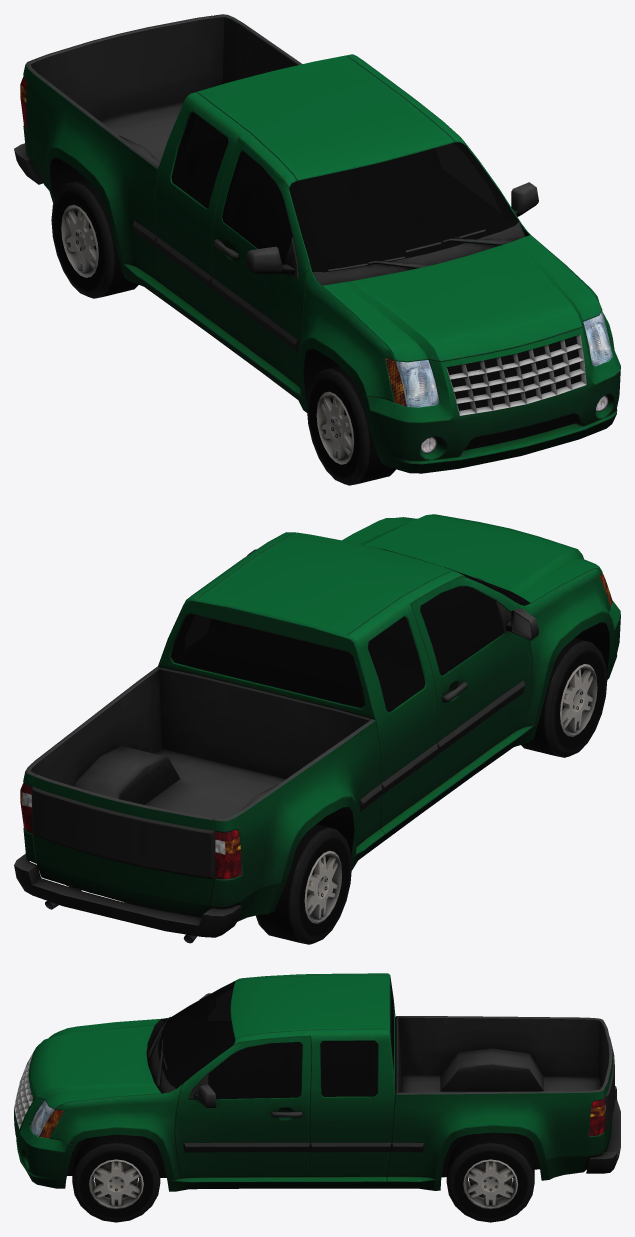
Rendered from pickup.glb.
3 views of the same model, one above another, from view 1: azimuth 30°, elevation 25°; view 2: azimuth 150°, elevation 25°; view 3: azimuth 270°, elevation 25° (orthographic). The views are drawn at different scales.
Parts seen in each view (by area): view 1: Pickup Body_Body_0, Pickup Body_Glass_0, Wheel_E002_Wheel_0, Wheel_E003_Wheel_0, Pickup Body_Optics_0; view 2: Pickup Body_Body_0, Pickup Body_Glass_0, Wheel_E003_Wheel_0, Wheel_E002_Wheel_0, Pickup Body_Optics_0; view 3: Pickup Body_Body_0, Pickup Body_Glass_0, Wheel_E001_Wheel_0, Wheel_E_Wheel_0, Pickup Body_Optics_0.
Part boxes in pixels (<box>): Pickup Body_Body_0: <box>14,14,620,473</box>; Pickup Body_Glass_0: <box>171,112,519,271</box>; Wheel_E002_Wheel_0: <box>306,366,395,485</box>; Wheel_E003_Wheel_0: <box>51,178,138,298</box>; Pickup Body_Optics_0: <box>20,76,612,453</box>; Pickup Body_Body_0: <box>14,514,620,943</box>; Pickup Body_Glass_0: <box>170,547,518,712</box>; Wheel_E003_Wheel_0: <box>256,824,351,944</box>; Wheel_E002_Wheel_0: <box>521,638,607,757</box>; Pickup Body_Optics_0: <box>20,572,612,879</box>; Pickup Body_Body_0: <box>14,973,620,1191</box>; Pickup Body_Glass_0: <box>158,981,393,1099</box>; Wheel_E001_Wheel_0: <box>446,1132,534,1222</box>; Wheel_E_Wheel_0: <box>72,1134,160,1222</box>; Pickup Body_Optics_0: <box>30,1097,605,1138</box>.
Bounding box in the file's own units: 2.07 × 1.7 × 5.18.
4 materials, 3 textured.
